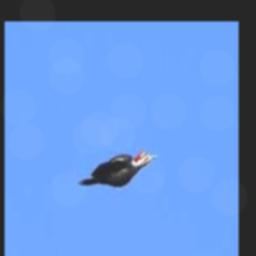Woodpecker: (79, 149, 157, 187)
